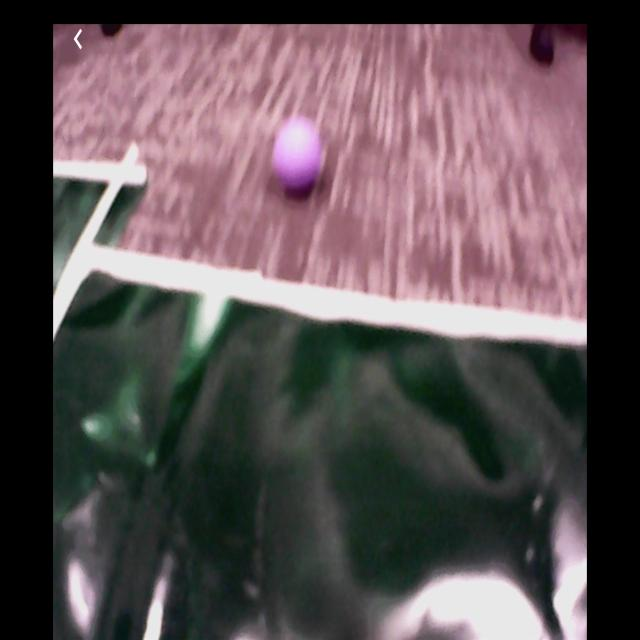ball: (272, 114, 324, 200)
